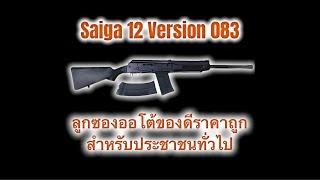larga: (70, 60, 254, 95)
